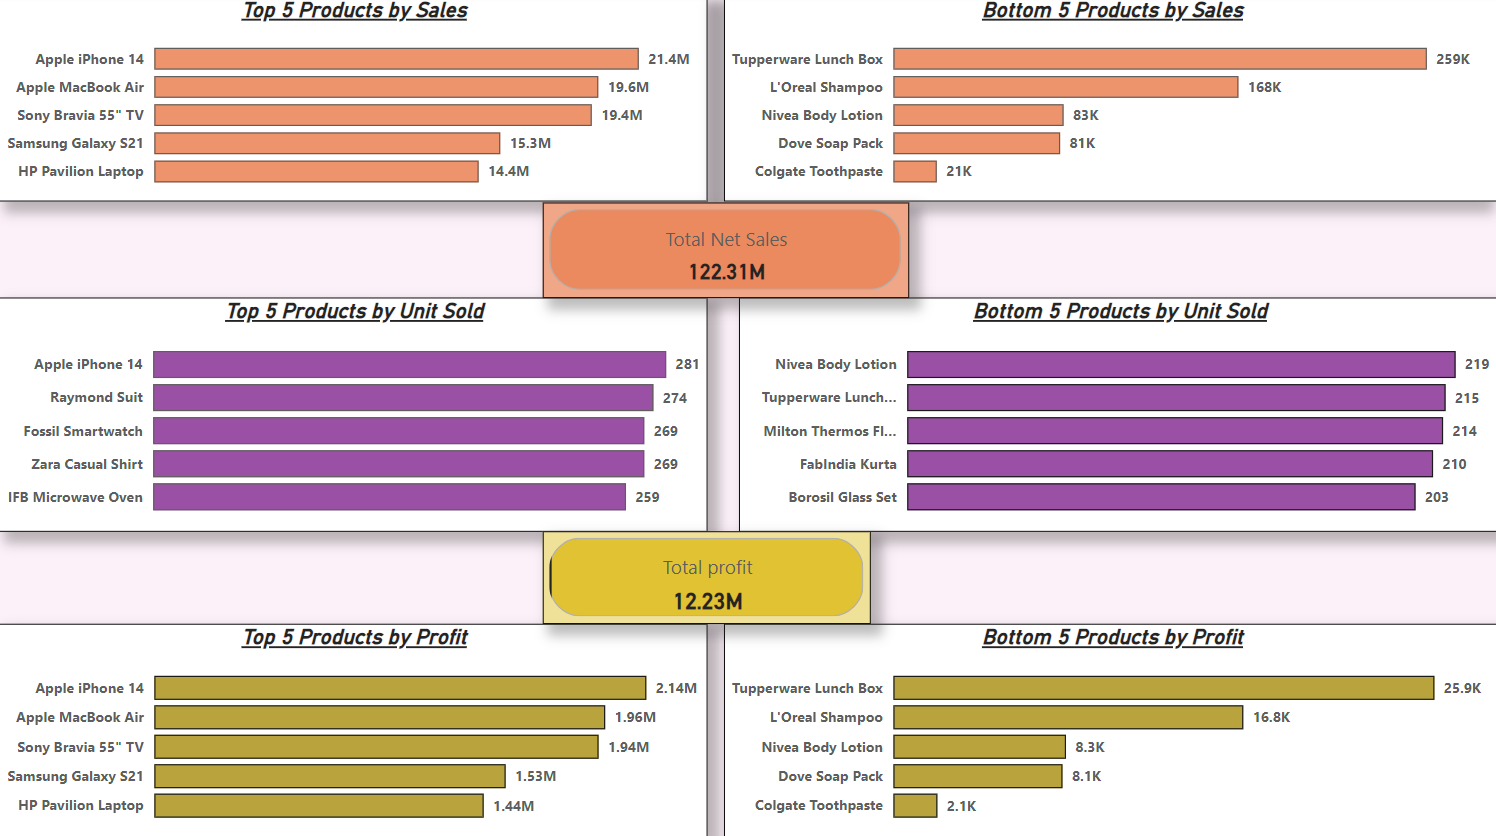

Layout of this report page (visuals, bound fields, positions):
{"tool":"powerbi","page":{"name":"Top 5 products by sales,profit and unit sold","canvas":[1280,720],"ordinal":1},"visuals":[{"type":"barChart","title":"Top 5 Products by Sales","fields":{"Category":["Dim Product.Product Name"],"Y":["Sum(Fact Table.net sales)"]},"box":[0,1.2,604.7,175.6],"z":0},{"type":"barChart","title":"Top 5 Products by Unit Sold","fields":{"Category":["Dim Product.Product Name"],"Y":["Sum(Fact Table.Units Sold)"]},"box":[0,258.1,604.7,200],"z":1000},{"type":"barChart","title":"Bottom 5 Products by Sales","fields":{"Category":["Dim Product.Product Name"],"Y":["Sum(Fact Table.net sales)"]},"box":[618.6,1.2,661.6,175.6],"z":2000},{"type":"barChart","title":"Bottom 5 Products by Unit Sold","fields":{"Category":["Dim Product.Product Name"],"Y":["Sum(Fact Table.Units Sold)"]},"box":[631.4,258.1,648.8,200],"z":3000},{"type":"barChart","title":"Top 5 Products by Profit","fields":{"Category":["Dim Product.Product Name"],"Y":["Sum(Fact Table.profit)"]},"box":[0,537.2,604.7,182.6],"z":4000},{"type":"barChart","title":"Bottom 5 Products by Profit","fields":{"Category":["Dim Product.Product Name"],"Y":["Sum(Fact Table.profit)"]},"box":[618.6,537.2,661.6,182.6],"z":5000},{"type":"cardVisual","fields":{"Data":["Sum(Fact Table.profit)"]},"box":[464,458.1,280.2,79.1],"z":6000},{"type":"cardVisual","fields":{"Data":["Sum(Fact Table.net sales)"]},"box":[464,176.7,312.8,81.4],"z":7000}]}

Visuals, with their boxes in screenshot pixels (x1, y1, x2, y2), scaled from the page's 1280x720 canvas onto the 1496x836 screenshot:
"Top 5 Products by Sales" barChart: bbox(0, 1, 707, 205)
"Top 5 Products by Unit Sold" barChart: bbox(0, 300, 707, 532)
"Bottom 5 Products by Sales" barChart: bbox(723, 1, 1495, 205)
"Bottom 5 Products by Unit Sold" barChart: bbox(738, 300, 1495, 532)
"Top 5 Products by Profit" barChart: bbox(0, 624, 707, 835)
"Bottom 5 Products by Profit" barChart: bbox(723, 624, 1495, 835)
cardVisual - Sum(Fact Table.profit): bbox(542, 532, 870, 624)
cardVisual - Sum(Fact Table.net sales): bbox(542, 205, 908, 300)
